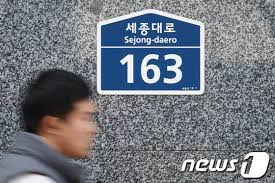building_license_plate: (96, 9, 205, 95)
